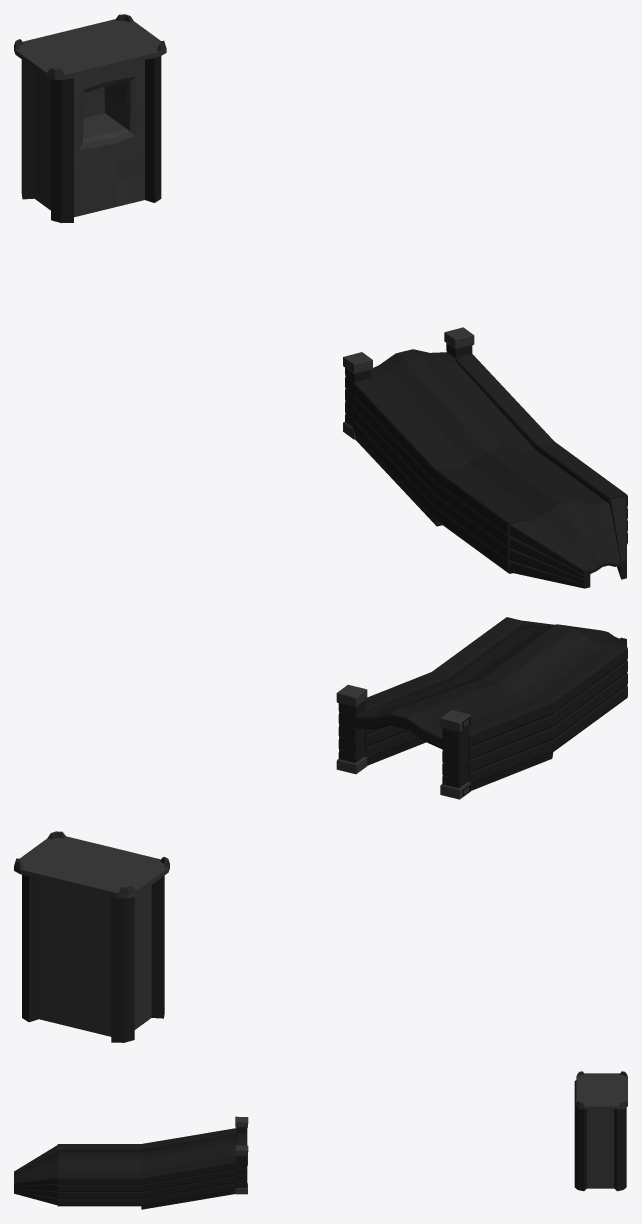
The model's file is LiquidStreamWalls.fbx.
3 renders of one model, top to bottom at view 1: azimuth 30°, elevation 25°; view 2: azimuth 150°, elevation 25°; view 3: azimuth 270°, elevation 25°, orthographic. The views are drawn at different scales.
Parts seen in each view (by area): view 1: LiquidStreamWalls; view 2: LiquidStreamWalls; view 3: LiquidStreamWalls.
Boxes of the visible parts, x1,y1,x2,y2 form: LiquidStreamWalls: [14, 14, 627, 588]; LiquidStreamWalls: [14, 617, 627, 1042]; LiquidStreamWalls: [14, 1071, 627, 1209].
Size of the model in its own units: 1971 by 2688 by 14375.
